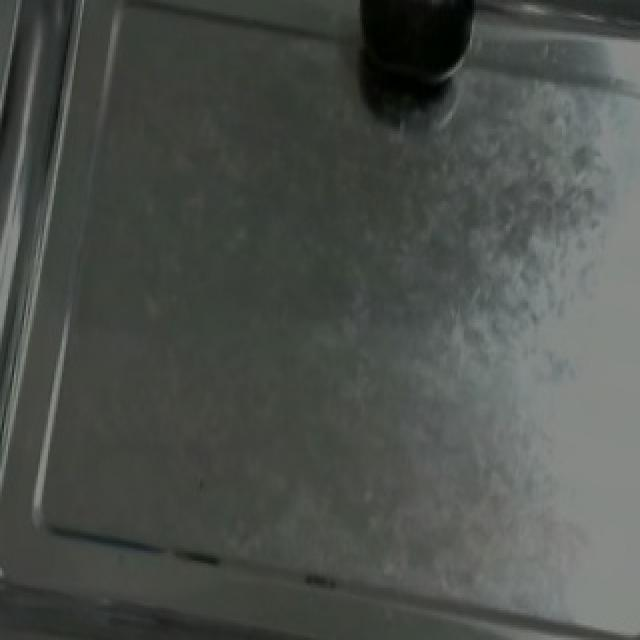Fruit: (342, 0, 494, 107)
